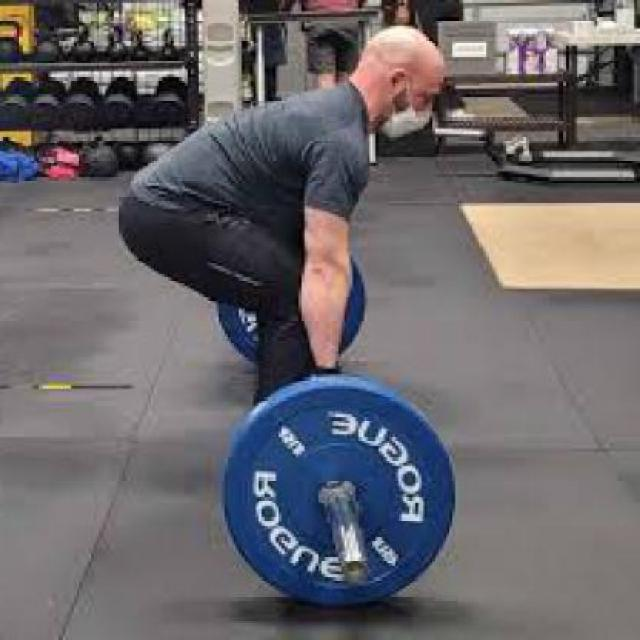Barbell: (333, 546, 373, 594)
